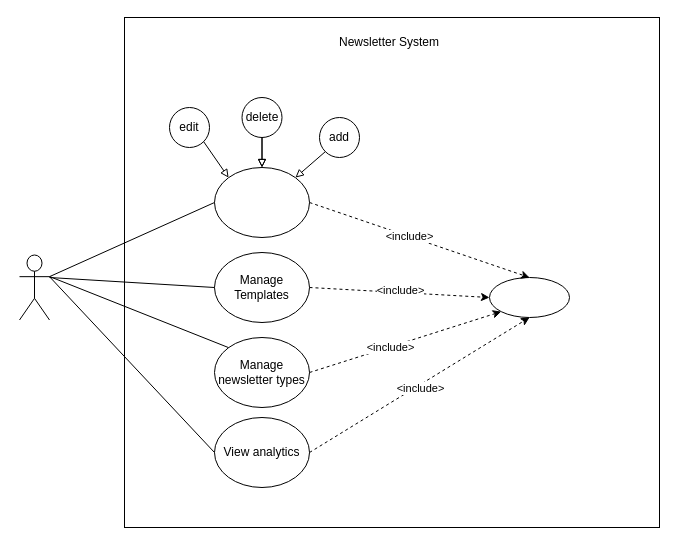
Image size: 677x545. Some labels were removed from this diagram. Each missing label, with the centre of its shape:
"Admin" goes at (x=34, y=287).
"Authentication" goes at (x=529, y=297).
"Manage newsletters" goes at (x=262, y=202).
